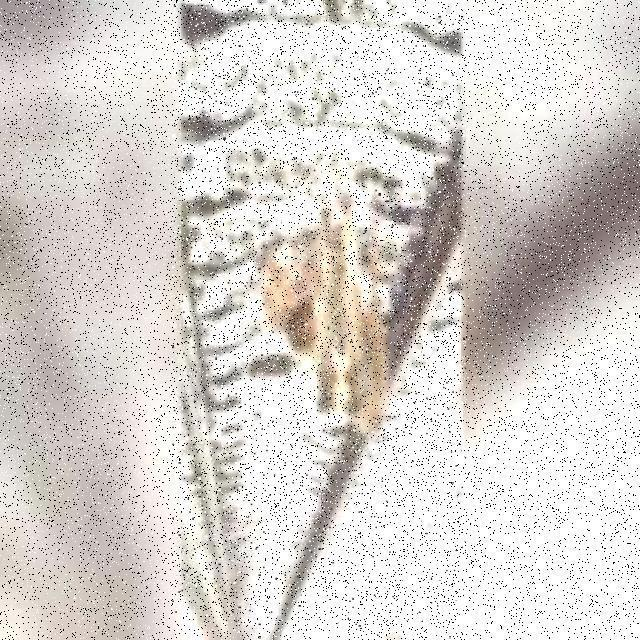rail: (174, 7, 466, 639)
